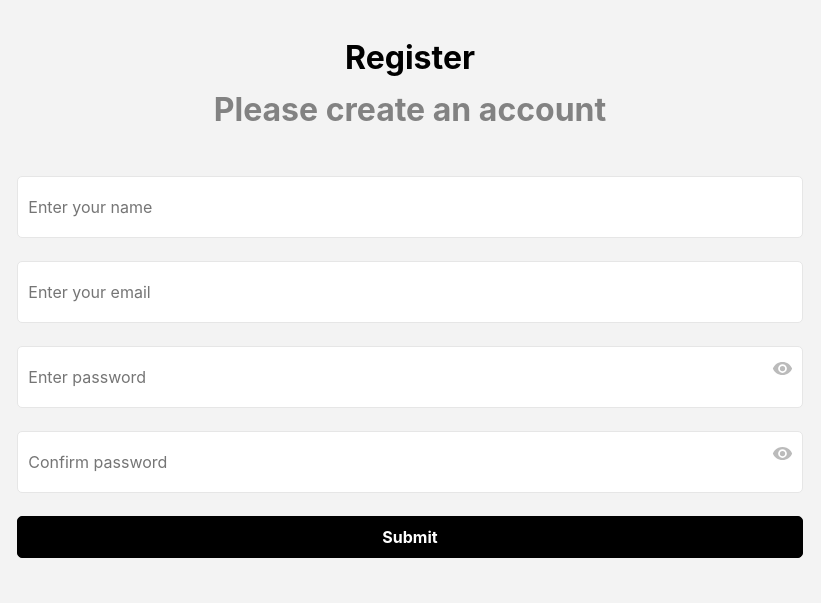
Test: SignIn › with invalid password › renders the password validation error
Type "123" into the password field with placeholder "Enter password" at (410,377), box [17,346,803,408]
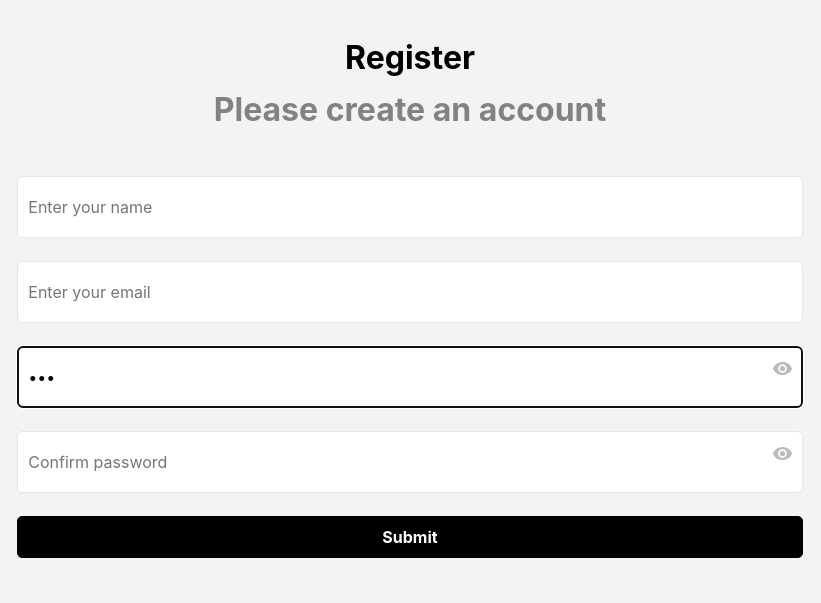
Click the button at (410,537), box [17,516,803,558]
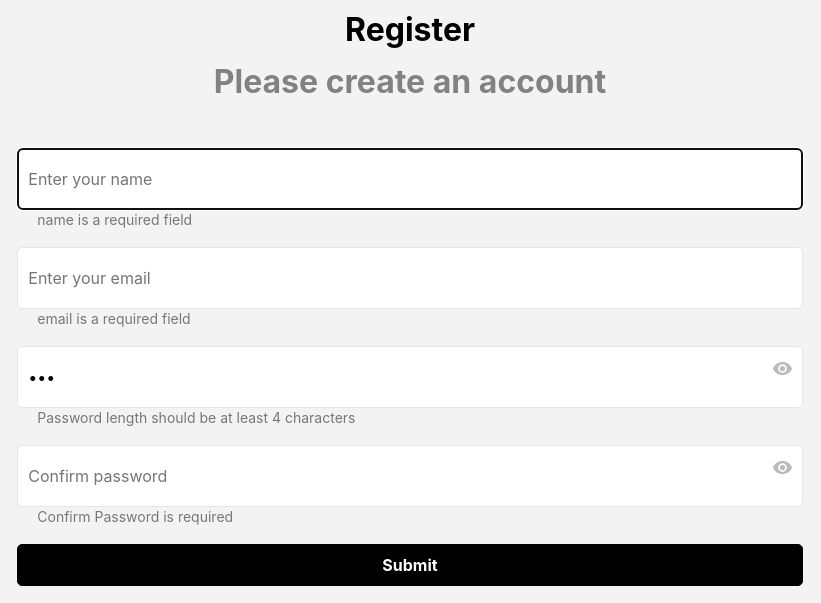
Expected: the 4th text "Password length should be at least 4 characters" is shown, [37,409,356,426]
